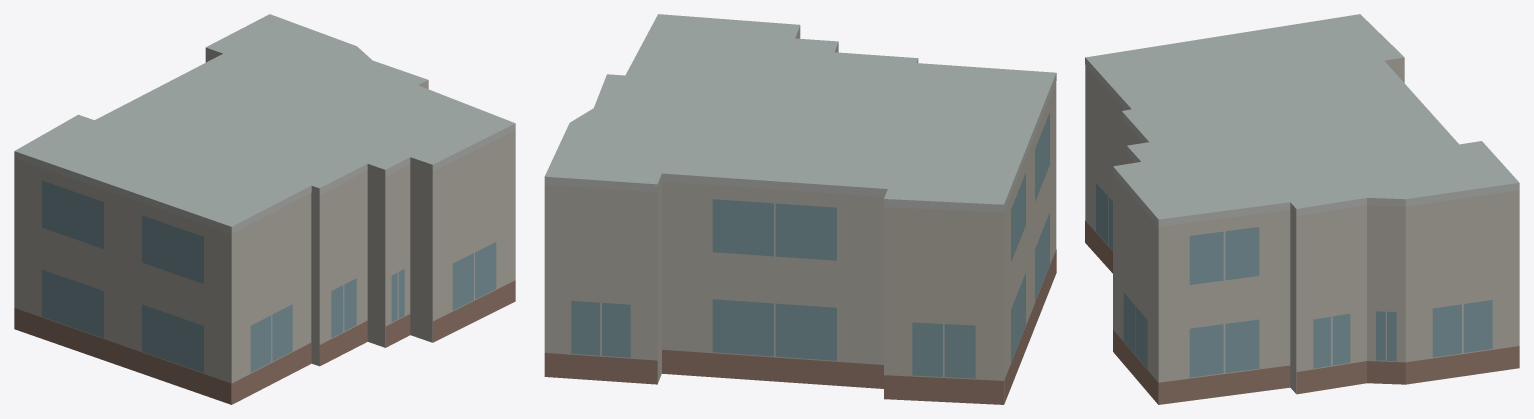
File: survey-upis-32692387.glb
3 views of the same model, side by side, from view 1: azimuth 30°, elevation 25°; view 2: azimuth 150°, elevation 25°; view 3: azimuth 270°, elevation 25° (orthographic). The views are drawn at different scales.
Parts seen in each view (by area): view 1: survey-upis-32692387.tmp; view 2: survey-upis-32692387.tmp; view 3: survey-upis-32692387.tmp.
Boxes of the visible parts, bbox=[...] form: survey-upis-32692387.tmp: bbox=[14, 14, 515, 404]; survey-upis-32692387.tmp: bbox=[544, 14, 1056, 404]; survey-upis-32692387.tmp: bbox=[1085, 14, 1519, 404].
Size of the model in its own units: 14.52 by 6.1 by 12.97.
